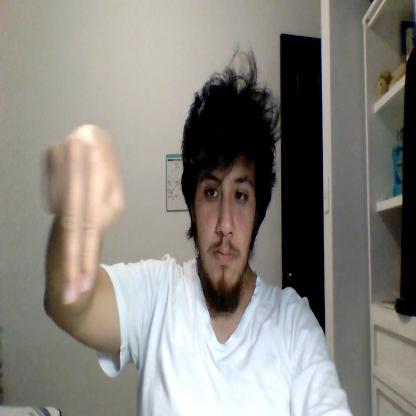N: (40, 124, 124, 308)
